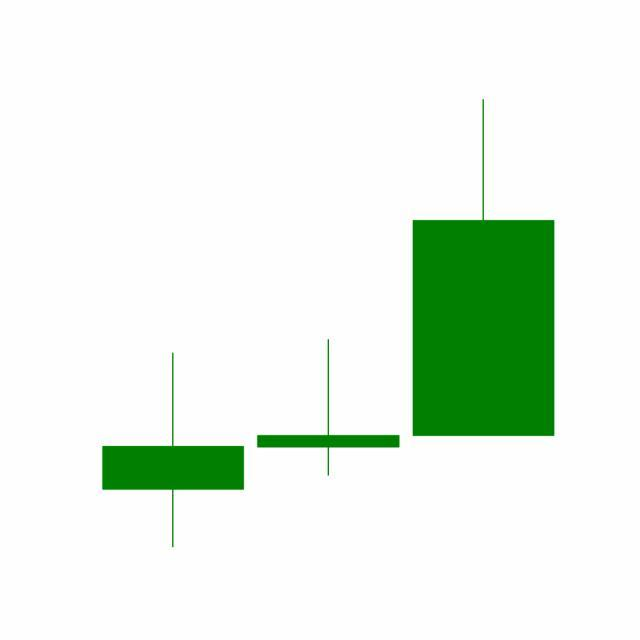Spinning Top: (250, 338, 407, 479)
